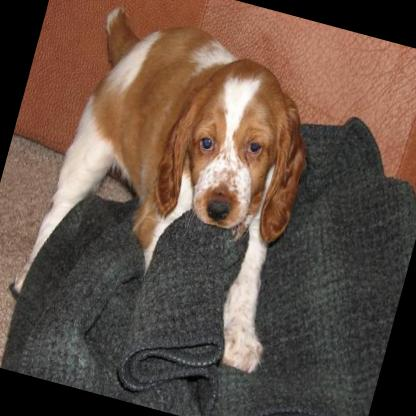Welsh_springer_spaniel: (4, 0, 341, 373)
